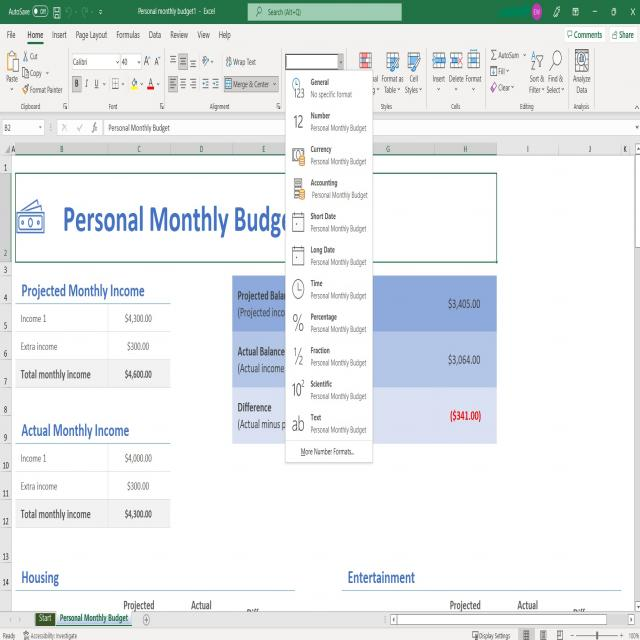button: (286, 70, 372, 111), (286, 206, 372, 241), (286, 241, 372, 275), (285, 172, 373, 205), (285, 308, 373, 341), (286, 341, 374, 374), (286, 375, 373, 408), (286, 140, 372, 173), (286, 275, 372, 308), (286, 408, 372, 441), (286, 112, 372, 141), (397, 615, 607, 625), (285, 441, 373, 464), (352, 42, 381, 102), (569, 45, 595, 101), (381, 43, 404, 100), (404, 43, 426, 101), (427, 43, 448, 103), (546, 46, 568, 98), (448, 44, 466, 103), (466, 44, 484, 102), (56, 612, 132, 625), (528, 46, 546, 97), (3, 46, 20, 98), (224, 76, 278, 92), (224, 51, 260, 72), (564, 25, 606, 43), (21, 83, 66, 98), (486, 64, 528, 80), (486, 47, 527, 63), (6, 4, 51, 18), (486, 81, 527, 96), (469, 627, 513, 640), (21, 45, 50, 64), (21, 65, 51, 82), (635, 156, 640, 248), (610, 28, 638, 43), (567, 0, 584, 24), (529, 0, 546, 24), (547, 0, 564, 24), (586, 0, 603, 24), (606, 0, 623, 23), (624, 0, 640, 24), (200, 50, 218, 70), (79, 1, 95, 22), (110, 75, 128, 93), (145, 75, 163, 93), (92, 75, 109, 93), (128, 75, 145, 93), (35, 612, 56, 626), (64, 1, 78, 22), (87, 120, 103, 136), (140, 612, 154, 629), (57, 120, 72, 135), (534, 627, 551, 640), (52, 2, 63, 22), (72, 120, 86, 135), (518, 628, 535, 640), (46, 118, 56, 137), (188, 53, 198, 71), (142, 53, 152, 71), (551, 628, 566, 640), (211, 75, 221, 93), (96, 3, 106, 21), (167, 53, 178, 69), (178, 53, 188, 70), (153, 52, 162, 70), (168, 76, 178, 92), (178, 76, 188, 92), (189, 76, 199, 92), (200, 76, 210, 92), (82, 76, 92, 92), (72, 76, 81, 92), (381, 612, 389, 628), (568, 628, 576, 640), (338, 54, 343, 70), (618, 627, 624, 640), (633, 102, 640, 112), (391, 614, 397, 625), (628, 614, 634, 625), (276, 102, 282, 112), (62, 101, 68, 111), (635, 601, 640, 612), (159, 102, 165, 111), (595, 630, 600, 640), (635, 143, 640, 152), (18, 615, 22, 624), (8, 615, 12, 624)
field: (104, 119, 640, 135), (247, 3, 402, 21), (285, 54, 338, 70), (72, 54, 120, 70), (2, 120, 45, 136), (121, 54, 141, 70)
